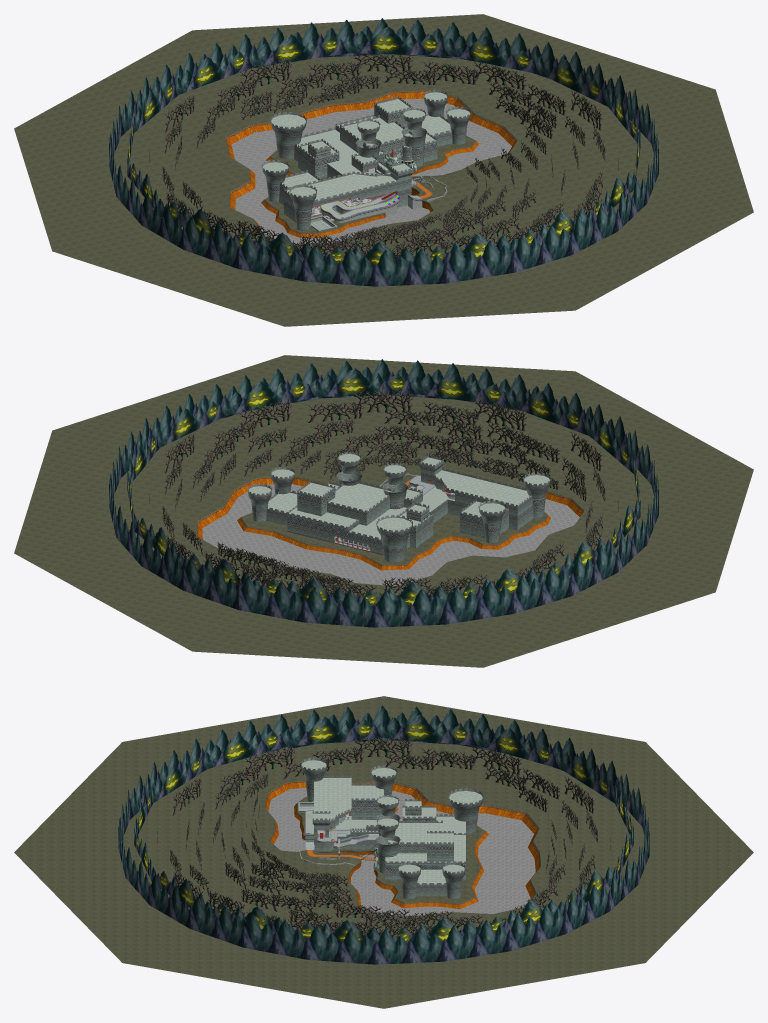
File: koopa_course.dae
3 renders of one model, top to bottom at view 1: azimuth 30°, elevation 25°; view 2: azimuth 150°, elevation 25°; view 3: azimuth 270°, elevation 25°, orthographic. The views are drawn at different scales.
Visible parts, largest first — view 1: n4b1, n2b0, n5b5, n6b11, n11b8, n8b9; view 2: n4b1, n2b0, n5b5, n6b11, n11b8; view 3: n4b1, n2b0, n6b11, n5b5, n11b8, n7b4.
Part boxes in pixels (x1,y1,x2,y2): n4b1: (14, 14, 753, 326); n2b0: (109, 18, 658, 286); n5b5: (261, 89, 470, 230); n6b11: (231, 98, 511, 245); n11b8: (262, 92, 469, 218); n8b9: (310, 193, 401, 231); n4b1: (14, 355, 753, 667); n2b0: (109, 359, 658, 627); n5b5: (247, 452, 550, 562); n6b11: (202, 484, 579, 586); n11b8: (248, 454, 549, 550); n4b1: (14, 696, 753, 1008); n2b0: (118, 705, 649, 964); n6b11: (268, 787, 535, 916); n5b5: (300, 757, 483, 899); n11b8: (301, 760, 482, 884); n7b4: (299, 811, 379, 865).
Size of the model in its own units: 247864 by 20302 by 247864.
